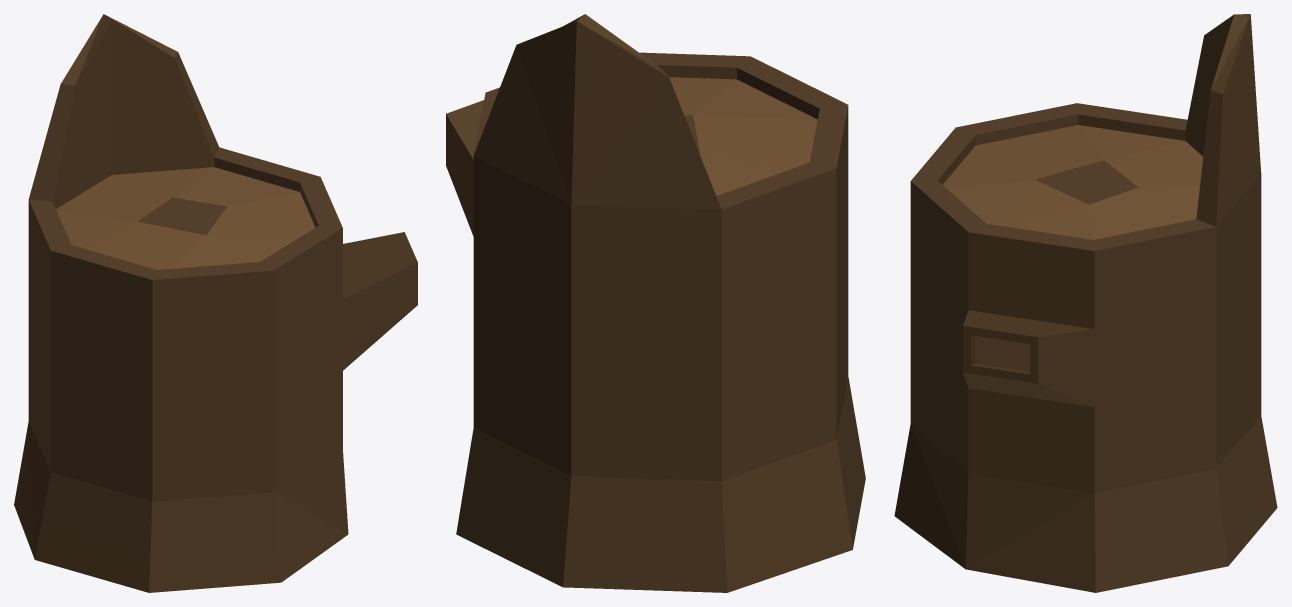
Rendered from Stump_01.fbx.
3 renders of one model, left to right at view 1: azimuth 30°, elevation 25°; view 2: azimuth 150°, elevation 25°; view 3: azimuth 270°, elevation 25°, orthographic. The views are drawn at different scales.
Parts seen in each view (by area): view 1: Stump_01; view 2: Stump_01; view 3: Stump_01.
Part boxes in pixels (x1=…): Stump_01: x1=14, y1=14, x2=417, y2=592; Stump_01: x1=446, y1=14, x2=865, y2=592; Stump_01: x1=894, y1=14, x2=1277, y2=592.
Size of the model in its own units: 65.93 by 57.1 by 81.32.
